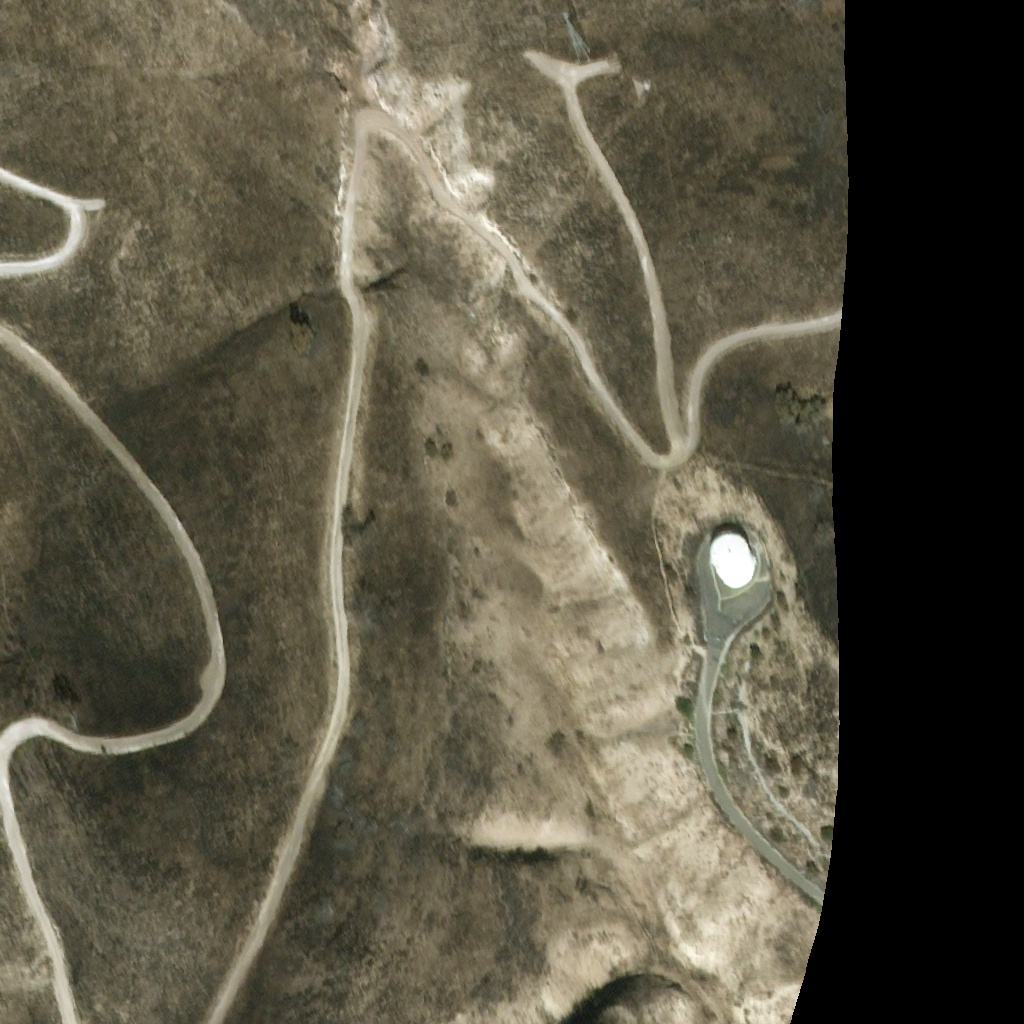0 no-damage: (707, 522, 751, 564)
